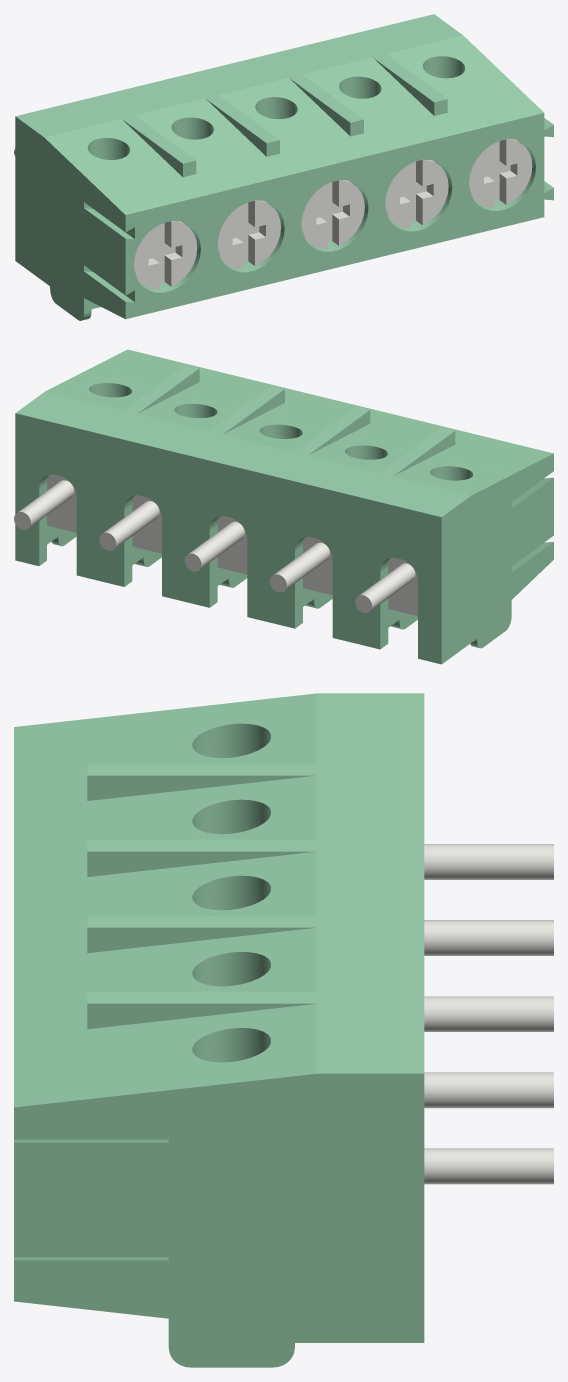
The model's file is TerminalBlock_Phoenix_PT-1,5-5-5.0-H_1x05_P5.00mm_Horizontal.glb.
3 renders of one model, top to bottom at view 1: azimuth 30°, elevation 25°; view 2: azimuth 150°, elevation 25°; view 3: azimuth 270°, elevation 25°, orthographic. The views are drawn at different scales.
Parts seen in each view (by area): view 1: Shape_IndexedFaceSet.121, Shape_IndexedFaceSet.114, Shape_IndexedFaceSet.048, Shape_IndexedFaceSet.036, Shape_IndexedFaceSet.211, Shape_IndexedFaceSet.232, Shape_IndexedFaceSet.225, Shape_IndexedFaceSet.222, Shape_IndexedFaceSet.239, Shape_IndexedFaceSet.218, Shape_IndexedFaceSet.243, Shape_IndexedFaceSet.236 (+21 smaller); view 2: Shape_IndexedFaceSet.012, Shape_IndexedFaceSet.121, Shape_IndexedFaceSet.048, Shape_IndexedFaceSet.036, Shape_IndexedFaceSet.145, Shape_IndexedFaceSet.187, Shape_IndexedFaceSet.188, Shape_IndexedFaceSet.128, Shape_IndexedFaceSet.186, Shape_IndexedFaceSet.144, Shape_IndexedFaceSet.142, Shape_IndexedFaceSet.077 (+20 smaller); view 3: Shape_IndexedFaceSet.034, Shape_IndexedFaceSet.121, Shape_IndexedFaceSet.048, Shape_IndexedFaceSet.186, Shape_IndexedFaceSet.187, Shape_IndexedFaceSet.128, Shape_IndexedFaceSet.145, Shape_IndexedFaceSet.188, Shape_IndexedFaceSet.173, Shape_IndexedFaceSet.174, Shape_IndexedFaceSet.138, Shape_IndexedFaceSet.141 (+7 smaller).
Part boxes in pixels (bbox=[...]): Shape_IndexedFaceSet.121: bbox=[44, 35, 543, 214]; Shape_IndexedFaceSet.114: bbox=[125, 113, 553, 318]; Shape_IndexedFaceSet.048: bbox=[15, 14, 462, 163]; Shape_IndexedFaceSet.036: bbox=[15, 116, 125, 320]; Shape_IndexedFaceSet.211: bbox=[422, 160, 448, 224]; Shape_IndexedFaceSet.232: bbox=[171, 221, 197, 286]; Shape_IndexedFaceSet.225: bbox=[506, 139, 532, 204]; Shape_IndexedFaceSet.222: bbox=[301, 184, 327, 248]; Shape_IndexedFaceSet.239: bbox=[255, 201, 280, 265]; Shape_IndexedFaceSet.218: bbox=[339, 180, 364, 245]; Shape_IndexedFaceSet.243: bbox=[217, 205, 243, 268]; Shape_IndexedFaceSet.236: bbox=[134, 225, 159, 289]; Shape_IndexedFaceSet.012: bbox=[15, 413, 441, 664]; Shape_IndexedFaceSet.121: bbox=[45, 349, 553, 495]; Shape_IndexedFaceSet.048: bbox=[15, 365, 470, 517]; Shape_IndexedFaceSet.036: bbox=[441, 453, 553, 663]; Shape_IndexedFaceSet.145: bbox=[274, 542, 330, 590]; Shape_IndexedFaceSet.187: bbox=[103, 501, 159, 548]; Shape_IndexedFaceSet.188: bbox=[188, 521, 244, 569]; Shape_IndexedFaceSet.128: bbox=[359, 563, 415, 610]; Shape_IndexedFaceSet.186: bbox=[18, 480, 74, 527]; Shape_IndexedFaceSet.144: bbox=[217, 516, 247, 574]; Shape_IndexedFaceSet.142: bbox=[47, 474, 76, 532]; Shape_IndexedFaceSet.077: bbox=[303, 537, 332, 595]; Shape_IndexedFaceSet.034: bbox=[14, 1073, 424, 1367]; Shape_IndexedFaceSet.121: bbox=[14, 693, 316, 1107]; Shape_IndexedFaceSet.048: bbox=[87, 693, 424, 1073]; Shape_IndexedFaceSet.186: bbox=[424, 1148, 553, 1184]; Shape_IndexedFaceSet.187: bbox=[424, 1072, 553, 1108]; Shape_IndexedFaceSet.128: bbox=[424, 844, 553, 879]; Shape_IndexedFaceSet.145: bbox=[424, 920, 553, 955]; Shape_IndexedFaceSet.188: bbox=[424, 996, 553, 1031]; Shape_IndexedFaceSet.173: bbox=[14, 1260, 168, 1283]; Shape_IndexedFaceSet.174: bbox=[14, 1142, 168, 1165]; Shape_IndexedFaceSet.138: bbox=[87, 927, 315, 953]; Shape_IndexedFaceSet.141: bbox=[87, 1003, 315, 1029].
Size of the model in its own units: 10.07 by 3.54 by 5.91.
